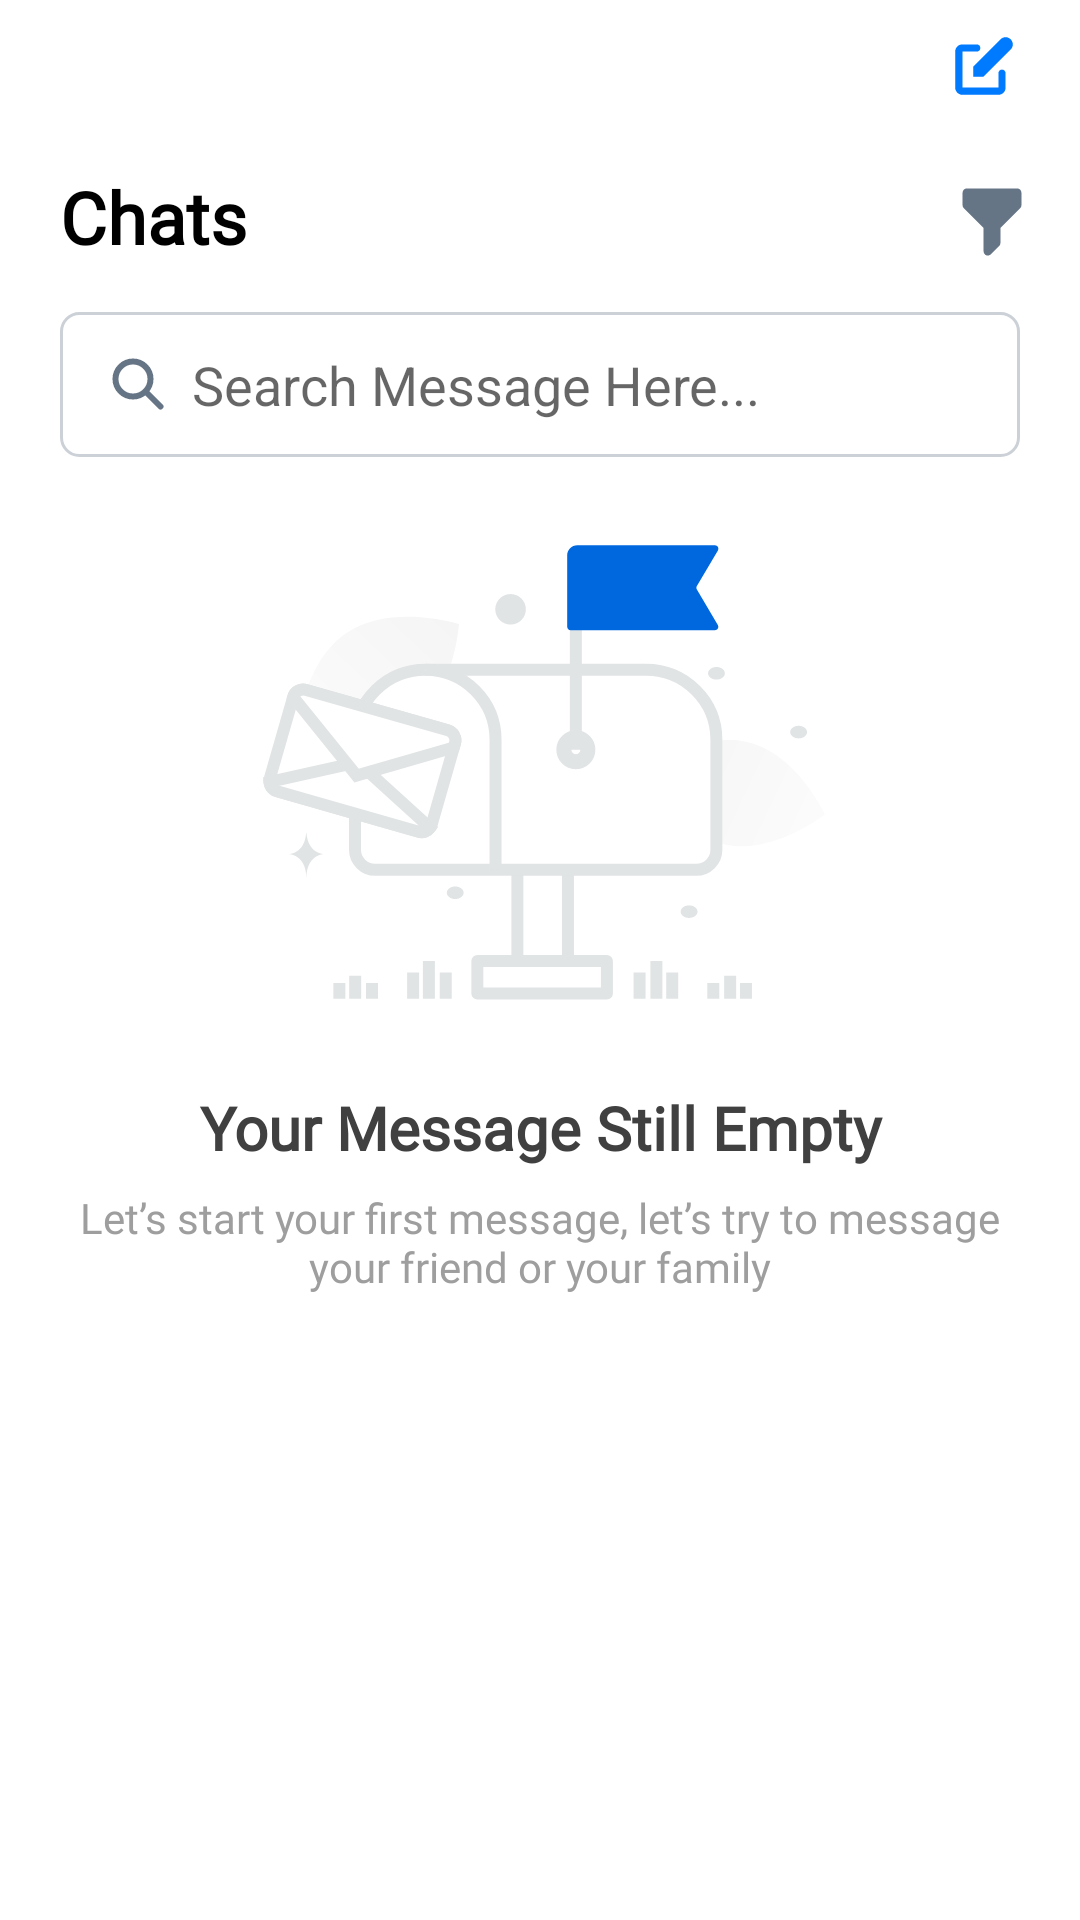

Point at icon controls on the screen. Image size 1080px x 1920px, points as (x=x, y=y).
create msg: (x=984, y=66)
filter: (x=992, y=222)
